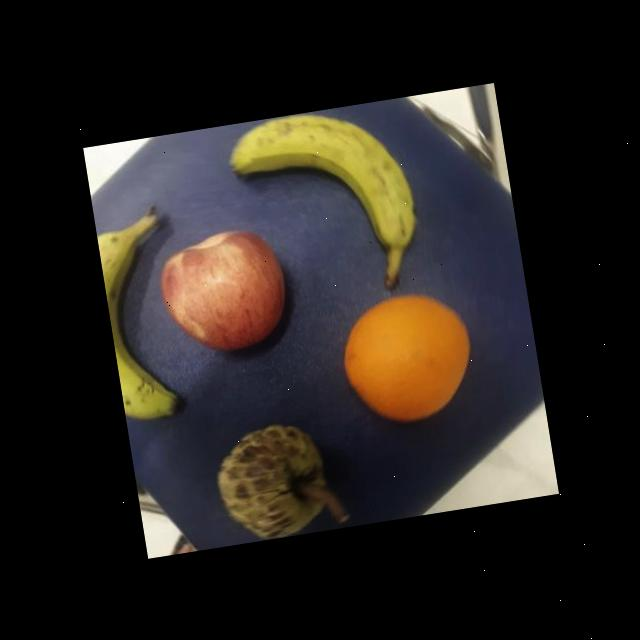Sakya fruit: (207, 416, 334, 545)
apple: (150, 222, 299, 366)
banana: (223, 97, 421, 272), (96, 222, 186, 427)
orange: (334, 282, 481, 430)
